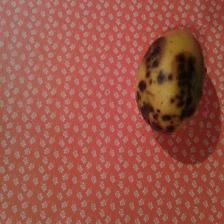Mango Rotten: (139, 27, 207, 136)
